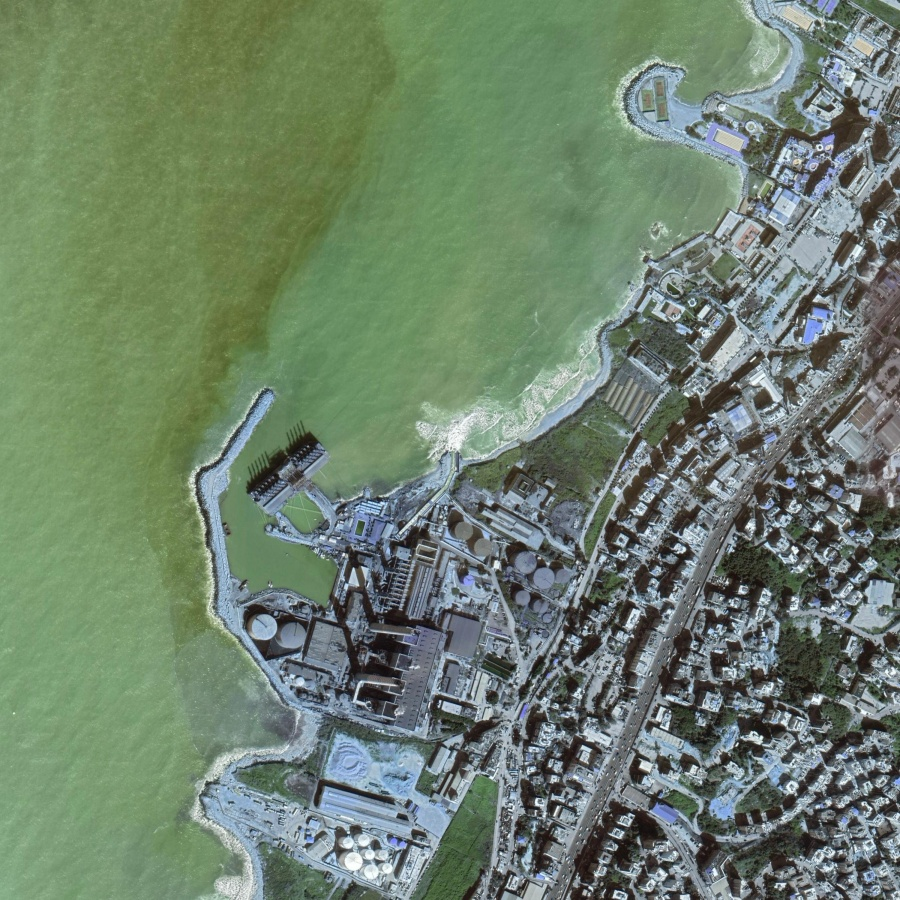PowerPlant: (235, 446, 580, 877)
